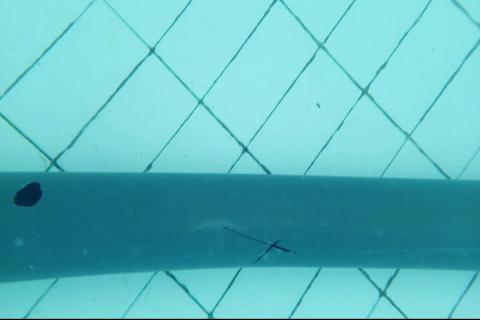kebocoran: (13, 180, 43, 206)
keretakan: (222, 224, 296, 263)
